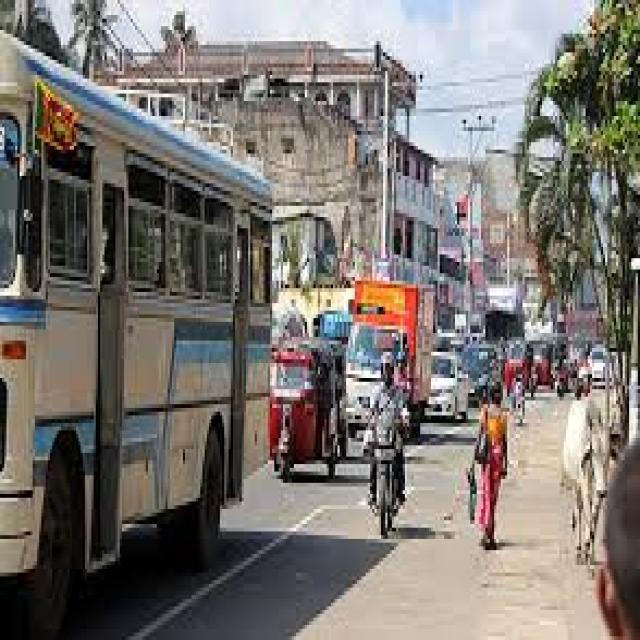bus: (0, 30, 270, 633)
car: (424, 352, 466, 419), (461, 344, 496, 404)
motorcycle: (364, 430, 403, 539)
person: (596, 442, 638, 640), (475, 382, 505, 550), (377, 352, 407, 453)
three wheeler: (270, 341, 344, 479), (503, 341, 522, 397), (533, 344, 549, 385)
truck: (346, 281, 433, 434)
